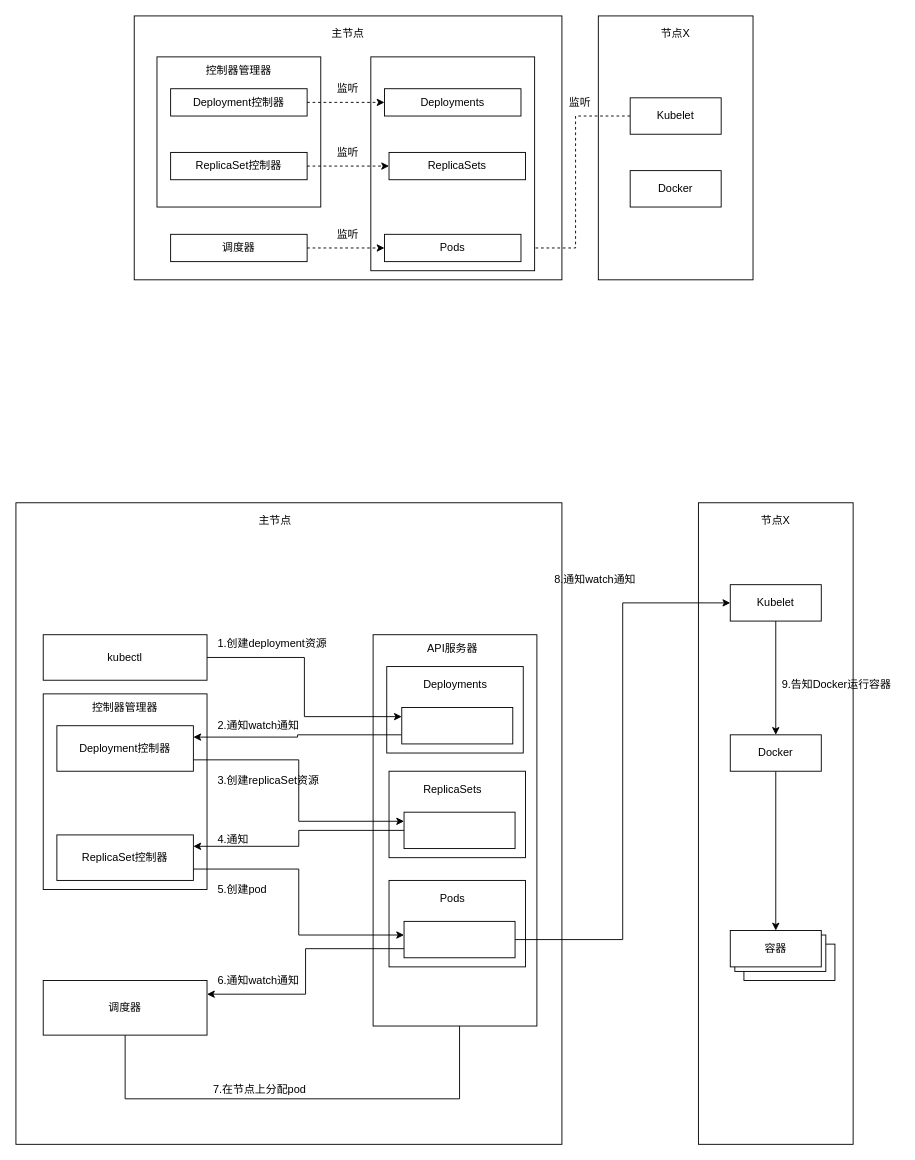
Some shapes in this 915 by 1160 pixel diagram are drawn without their labels. The shapes that lost their labels are listed below. From the top down, each one's centre as x and y in pixels, then its label:
At pixel 457 725: "DeploymentA".
At pixel 459 830: "ReplicaSetA".
At pixel 459 939: "Pod A".
